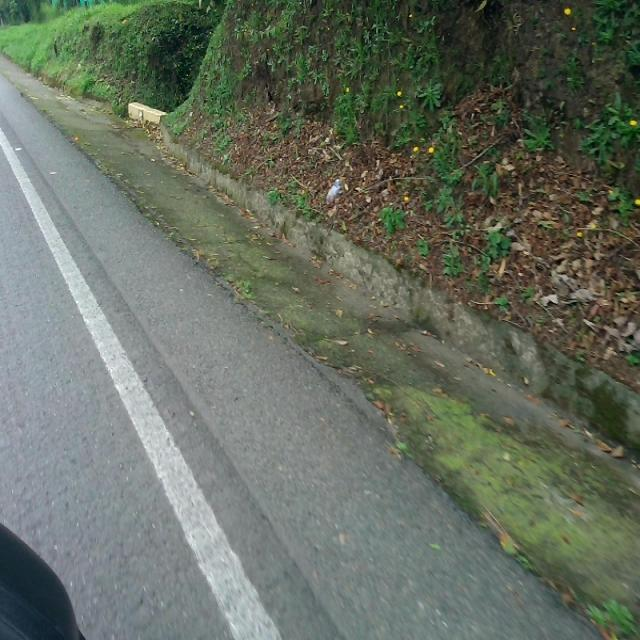DITCH: (2, 50, 637, 637), (2, 51, 637, 637), (56, 71, 636, 638)
